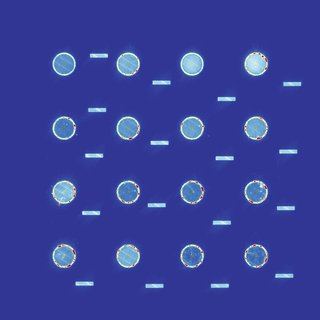overheated: (115, 115, 141, 141), (51, 115, 76, 141), (244, 115, 269, 141), (116, 52, 141, 77), (180, 116, 205, 141), (51, 244, 76, 269), (244, 51, 268, 77), (243, 180, 269, 204), (52, 180, 76, 205), (116, 179, 140, 204), (116, 243, 140, 268), (244, 244, 269, 268), (180, 180, 204, 204), (180, 244, 204, 268)
